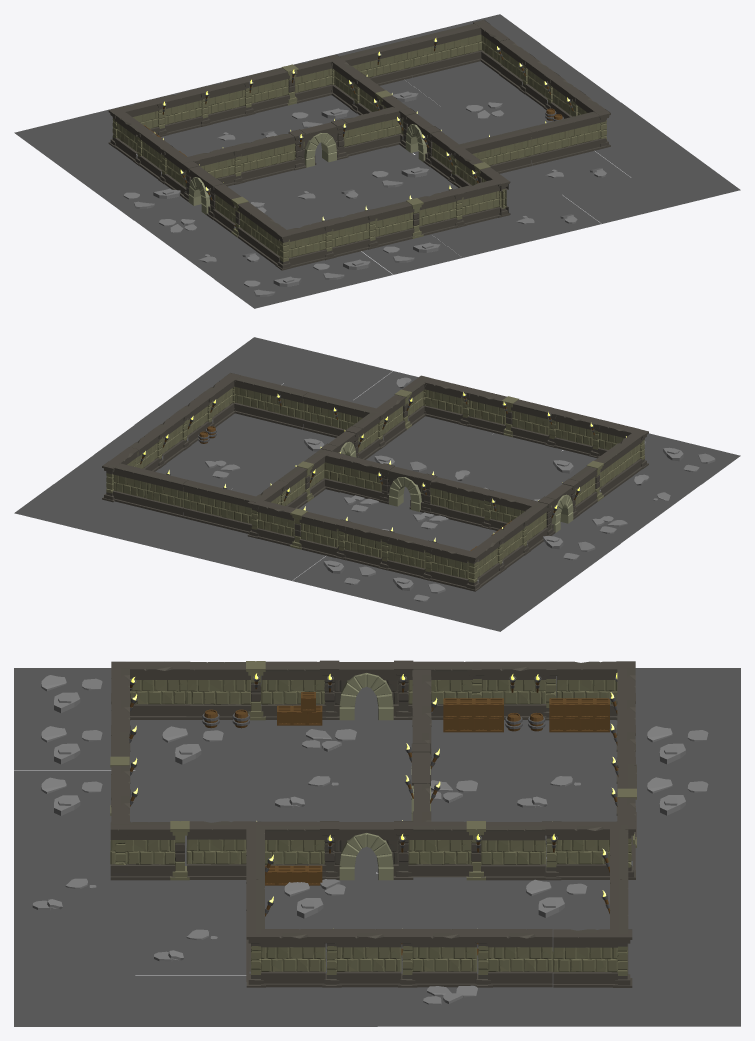
The model's file is dungeona.glb.
3 views of the same model, one above another, from view 1: azimuth 30°, elevation 25°; view 2: azimuth 150°, elevation 25°; view 3: azimuth 270°, elevation 25° (orthographic). The views are drawn at different scales.
Parts seen in each view (by area): view 1: Plane.032, Plane.020, Plane.012, Plane.046, Plane.016, Plane.030, Plane.034, Plane.035, Plane.033, Plane.013, Plane.002, Plane.022 (+63 smaller); view 2: Plane.020, Plane.032, Plane.046, Plane.040, Plane.026, Plane.035, Plane.029, Plane.034, Plane.044, Plane.039, Plane.001, Plane.022 (+63 smaller); view 3: Plane.032, Plane.020, Plane.012, Plane.040, Plane.030, Plane.029, Plane.033, Plane.004, Plane.037, Plane.015, Plane.002, Plane.044 (+56 smaller).
Part boxes in pixels (x1,y1,x2,y2): Plane.032: [562, 177, 670, 223]; Plane.020: [632, 161, 740, 206]; Plane.012: [274, 170, 382, 215]; Plane.046: [442, 90, 546, 135]; Plane.016: [343, 153, 450, 198]; Plane.030: [595, 131, 700, 177]; Plane.034: [214, 265, 323, 308]; Plane.035: [14, 116, 113, 161]; Plane.033: [501, 194, 601, 240]; Plane.013: [405, 63, 510, 106]; Plane.002: [525, 151, 630, 194]; Plane.022: [94, 175, 200, 220]; Plane.020: [214, 337, 323, 383]; Plane.032: [284, 354, 392, 399]; Plane.046: [164, 443, 272, 488]; Plane.040: [452, 434, 561, 480]; Plane.026: [384, 417, 492, 463]; Plane.035: [431, 588, 539, 631]; Plane.029: [14, 484, 119, 529]; Plane.034: [641, 439, 740, 484]; Plane.044: [83, 503, 189, 546]; Plane.039: [153, 520, 256, 563]; Plane.001: [207, 415, 309, 458]; Plane.022: [521, 529, 620, 572]; Plane.032: [14, 924, 135, 975]; Plane.020: [14, 975, 135, 1026]; Plane.012: [256, 770, 377, 821]; Plane.040: [135, 770, 256, 821]; Plane.030: [135, 975, 256, 1026]; Plane.029: [619, 975, 740, 1026]; Plane.033: [14, 873, 135, 924]; Plane.004: [498, 770, 617, 821]; Plane.037: [256, 719, 377, 770]; Plane.015: [135, 720, 256, 770]; Plane.002: [135, 924, 250, 975]; Plane.044: [628, 924, 740, 975].
Bounding box in the file's own units: 112 × 8.99 × 96.
